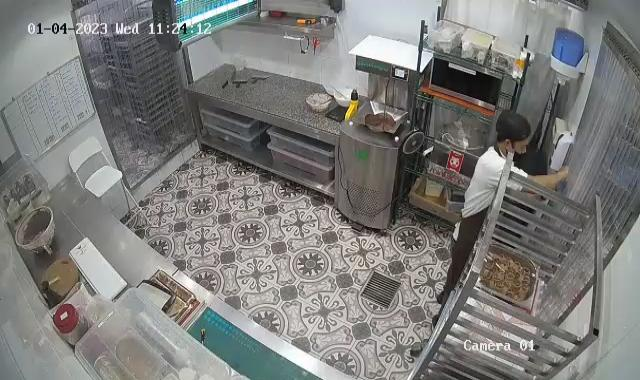no_hairnet: (496, 108, 531, 146)
